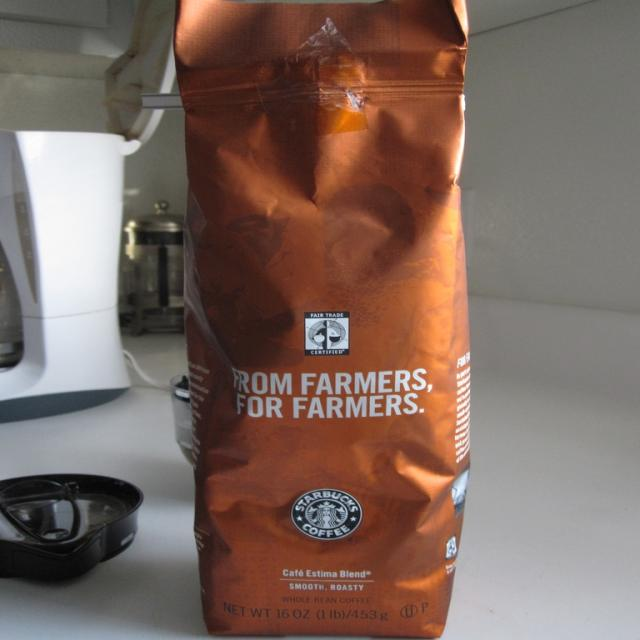starbucks: (290, 489, 364, 542)
